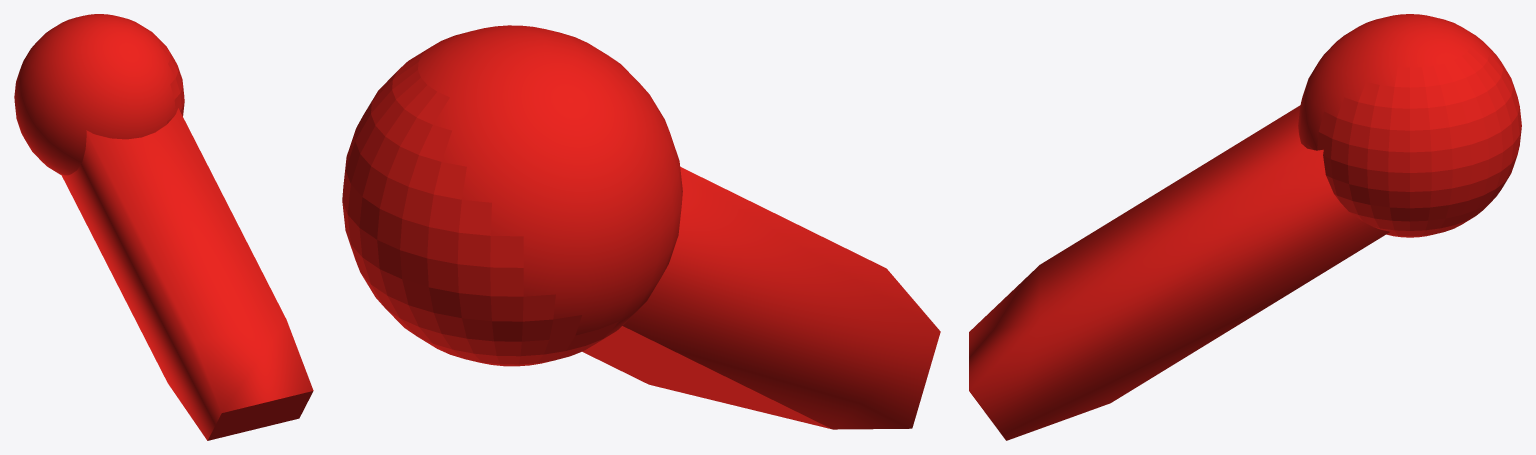
File: Lever.fbx
The picture shows the model from 3 angles, left to right: view 1: azimuth 30°, elevation 25°; view 2: azimuth 150°, elevation 25°; view 3: azimuth 270°, elevation 25°; orthographic projection. The views are drawn at different scales.
Visible parts, largest first — view 1: lever; view 2: lever; view 3: lever.
Part boxes in pixels (x1=…): lever: x1=14, y1=14, x2=313, y2=440; lever: x1=342, y1=25, x2=940, y2=429; lever: x1=969, y1=14, x2=1521, y2=440.
Bounding box in the file's own units: 1.36 × 3.35 × 2.59.
